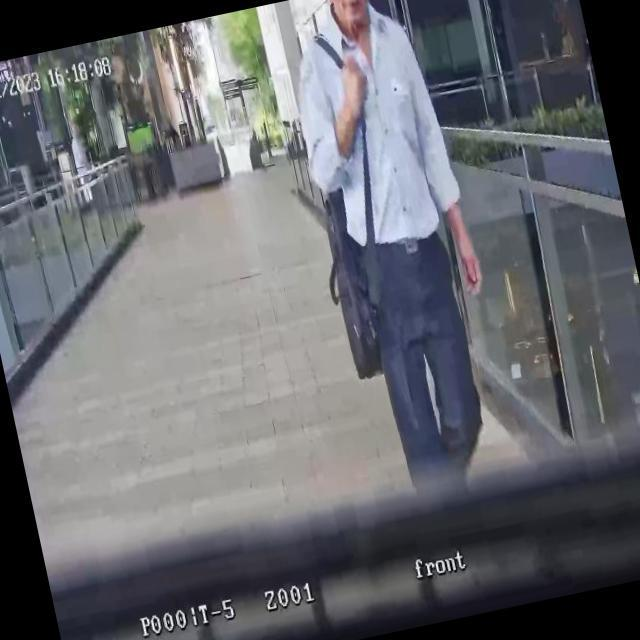person: (272, 0, 522, 501)
